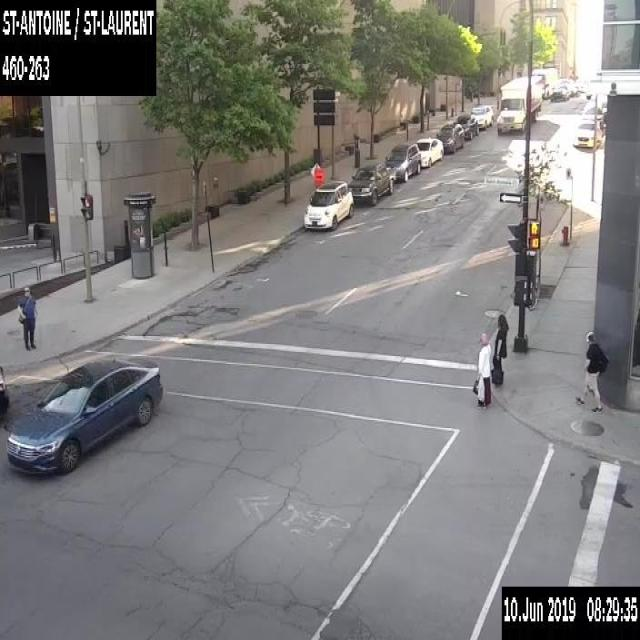bus: (530, 67, 557, 98)
construction: (313, 167, 325, 189)
pedestrian: (574, 328, 609, 412), (472, 332, 491, 405), (490, 312, 509, 385), (18, 285, 36, 352)
vehicle: (5, 358, 162, 478), (496, 75, 542, 134), (303, 179, 353, 230), (346, 162, 396, 204), (384, 142, 420, 181), (414, 136, 443, 167), (435, 122, 464, 152), (574, 118, 601, 146), (453, 113, 478, 139), (580, 100, 604, 126), (0, 364, 9, 428), (470, 104, 493, 128), (550, 81, 569, 99)
